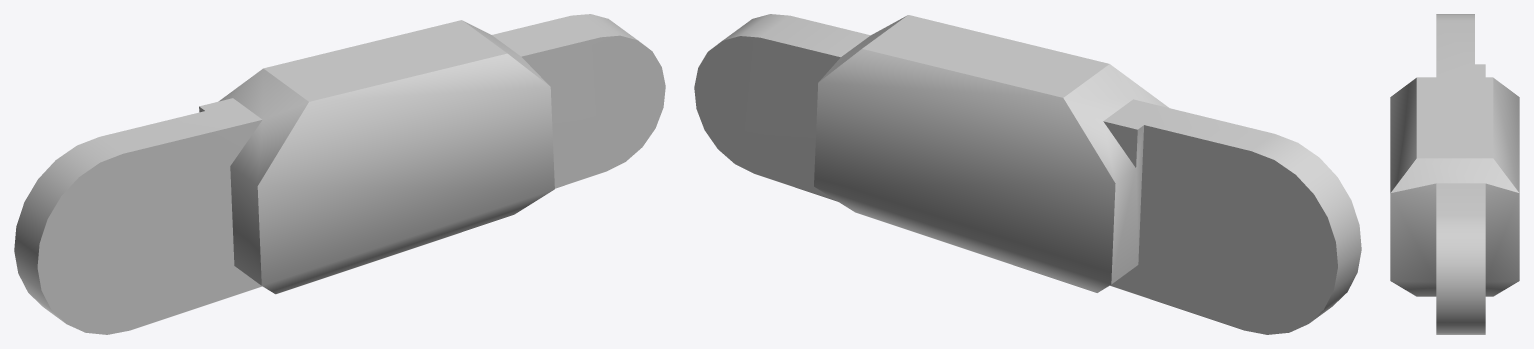
Rendered from finger0_1.dae.
3 renders of one model, left to right at view 1: azimuth 30°, elevation 25°; view 2: azimuth 150°, elevation 25°; view 3: azimuth 270°, elevation 25°, orthographic. The views are drawn at different scales.
Parts seen in each view (by area): view 1: secondFingerLink; view 2: secondFingerLink; view 3: secondFingerLink.
Part boxes in pixels (bbox=[...]): secondFingerLink: bbox=[14, 14, 665, 334]; secondFingerLink: bbox=[694, 14, 1361, 334]; secondFingerLink: bbox=[1390, 14, 1519, 334].
Bounding box in the file's own units: 0.0919 × 0.0275 × 0.0196.
1 material, 1 textured.
